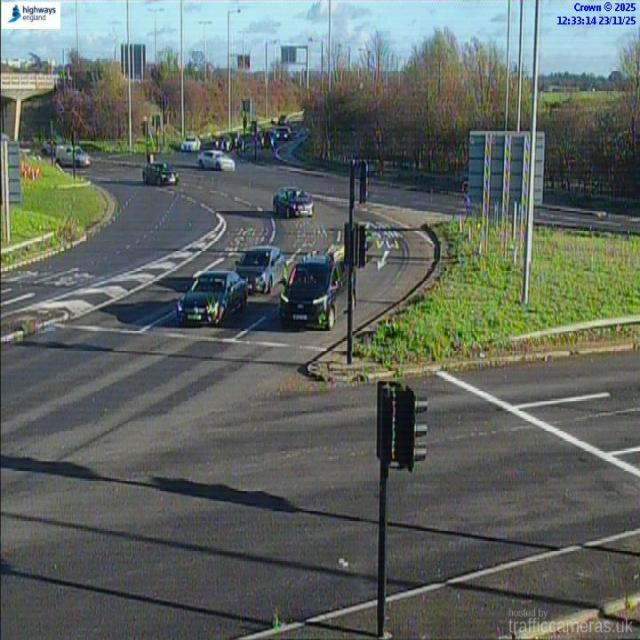foliage: (300, 28, 504, 178), (539, 90, 639, 197), (48, 52, 128, 142), (186, 68, 230, 127), (142, 67, 181, 121), (231, 67, 263, 124), (262, 77, 306, 110), (132, 88, 154, 132)
